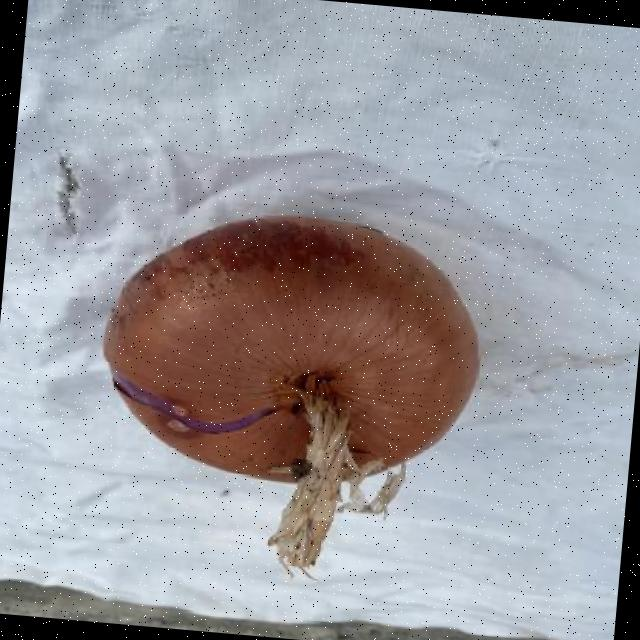Onion: (100, 215, 478, 573)
